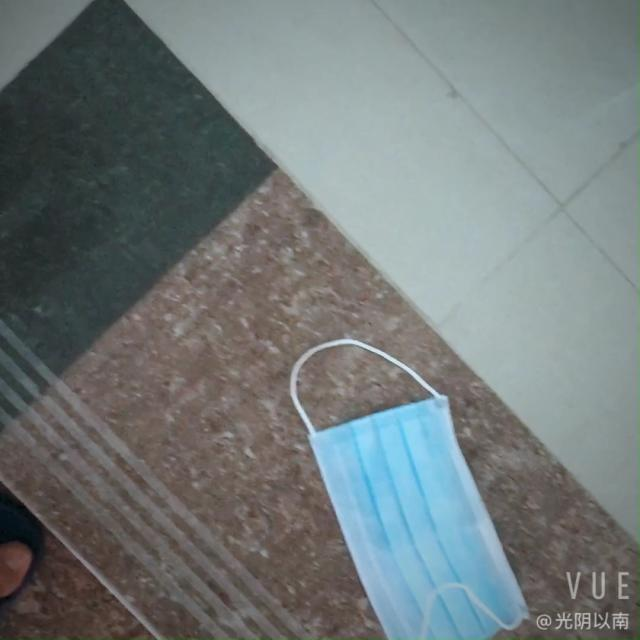face mask: (311, 398, 539, 640)
